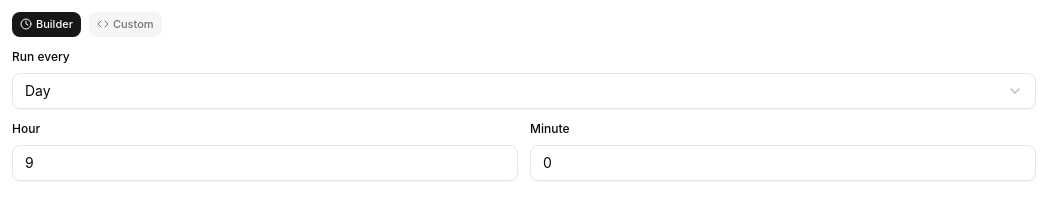
Test: CronBuilder › renders custom mode input when switching to Custom tab
Click the button "Custom" at point(125, 24), box [89,12,162,36]
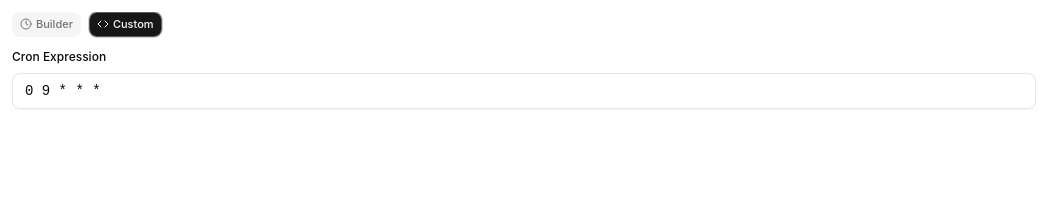
Now the text "Cron Expression" is shown, box [12,48,106,64]
Now the field with placeholder "0 9 * * 1-5" is shown, box [12,72,1036,108]
Now the text "Run every" is gone
